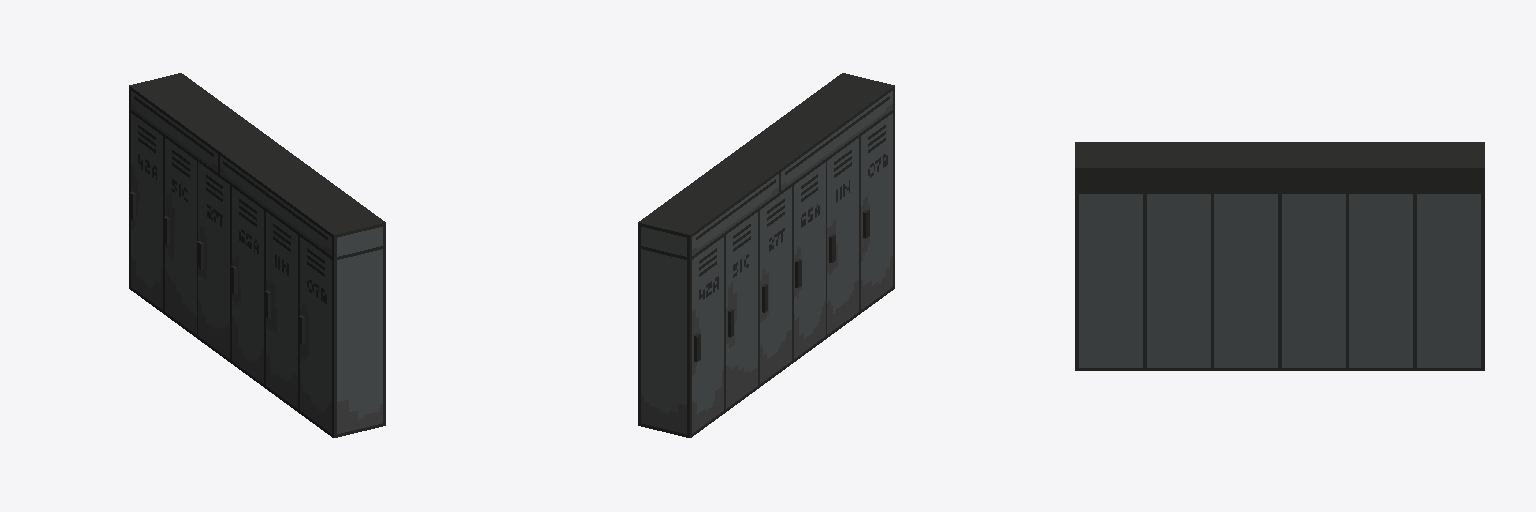
3 views of the same model, side by side, from view 1: azimuth 30°, elevation 25°; view 2: azimuth 150°, elevation 25°; view 3: azimuth 270°, elevation 25° (orthographic).
Parts seen in each view (by area): view 1: object 1; view 2: object 1; view 3: object 1.
Part boxes in pixels (x1,y1,x2,y2): object 1: (129, 73, 385, 437); object 1: (638, 73, 894, 437); object 1: (1075, 142, 1484, 370).
Bounding box in the file's own units: 1.8 × 6.3 × 11.5.
1 materials, 1 textured.